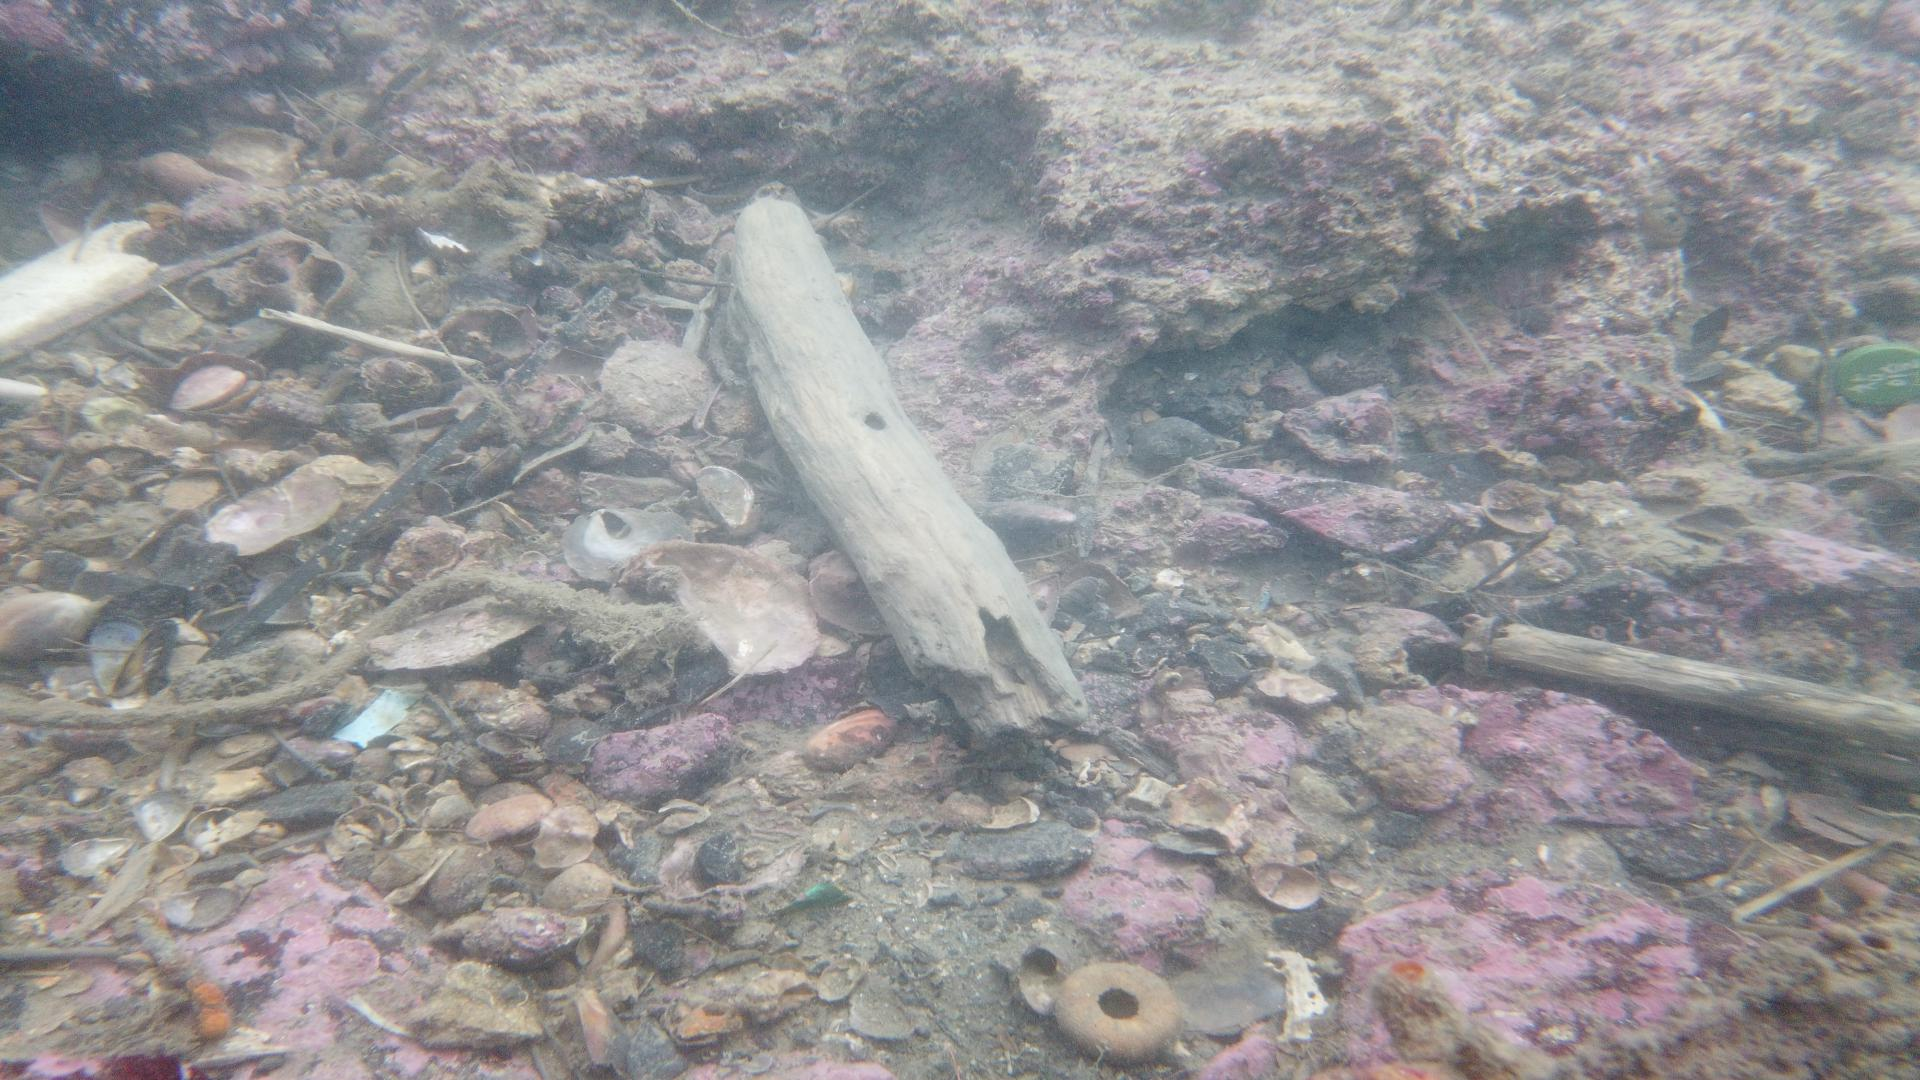rope: (0, 566, 669, 731), (1472, 535, 1695, 597)
wood: (727, 194, 1089, 740), (1487, 618, 1920, 752)
